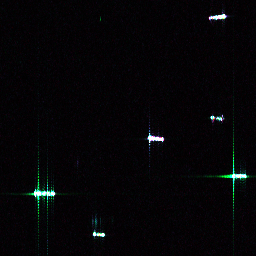ship: (145, 131, 166, 144), (208, 112, 226, 123), (33, 189, 55, 197), (207, 13, 228, 21), (230, 172, 248, 179), (91, 230, 106, 238)
